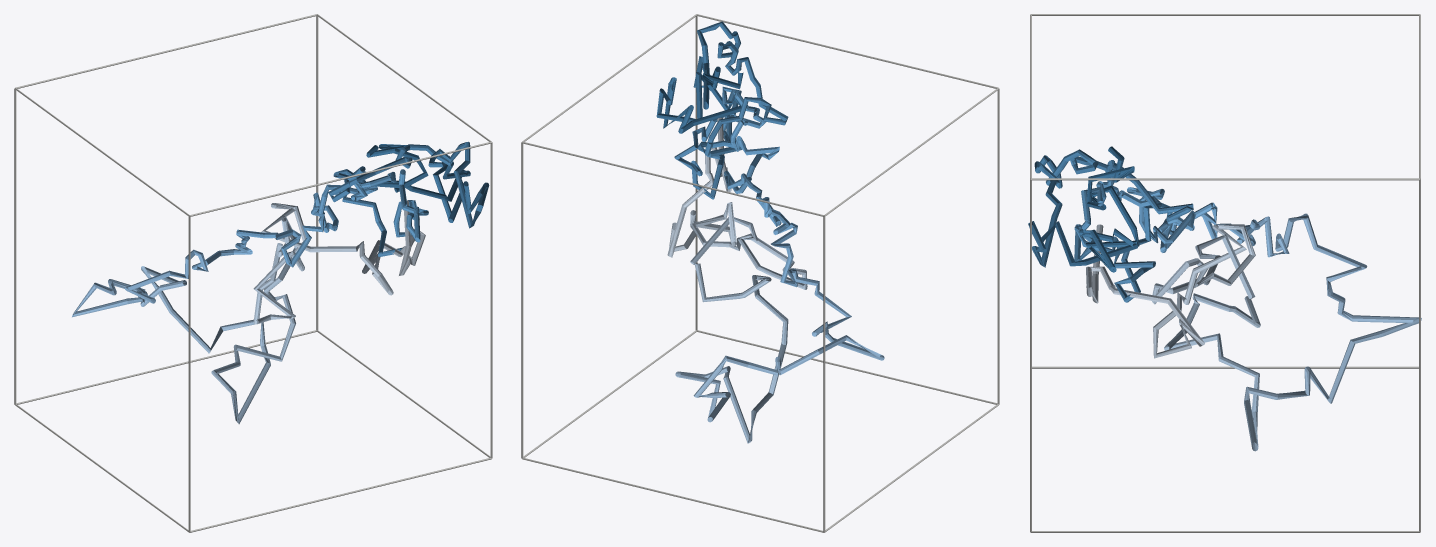
3 views of the same model, side by side, from view 1: azimuth 30°, elevation 25°; view 2: azimuth 150°, elevation 25°; view 3: azimuth 270°, elevation 25° (orthographic). The views are drawn at different scales.
Parts seen in each view (by area): view 1: geometry_0, geometry_1; view 2: geometry_0, geometry_1; view 3: geometry_0, geometry_1.
Boxes of the visible parts, <box> form: geometry_0: <box>72,141,489,424</box>; geometry_1: <box>14,14,492,532</box>; geometry_0: <box>656,21,884,443</box>; geometry_1: <box>521,14,999,532</box>; geometry_0: <box>1028,146,1421,451</box>; geometry_1: <box>1030,14,1420,532</box>.
Size of the model in its own units: 0.3039 by 0.3042 by 0.3037.
